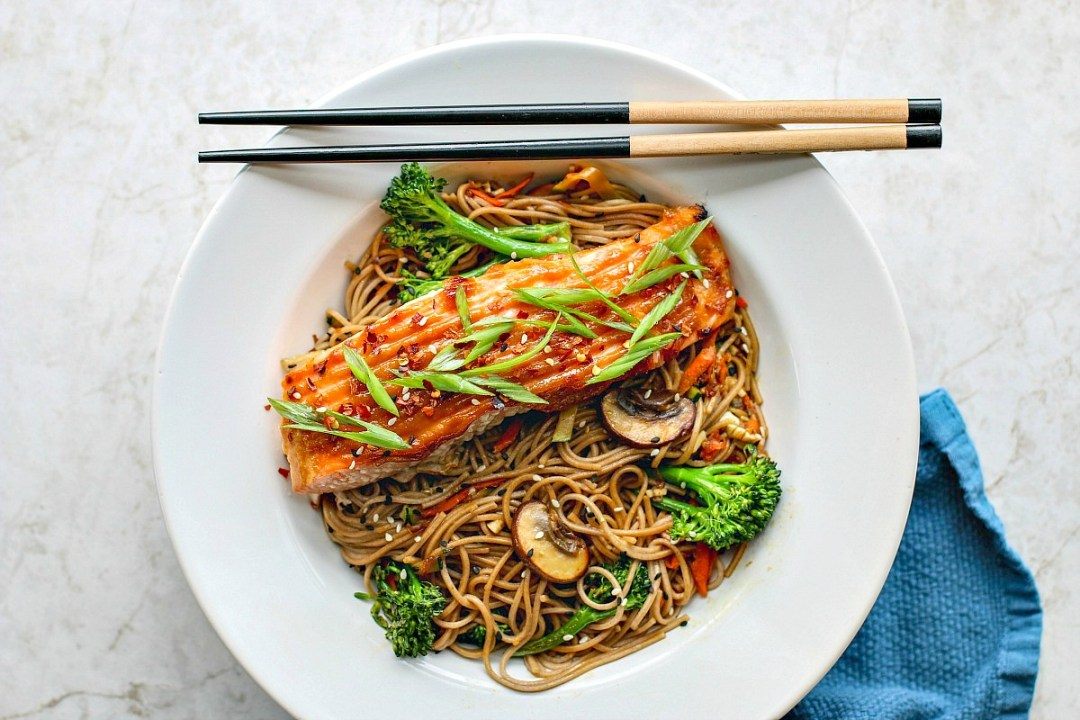Soba: (286, 162, 824, 704)
